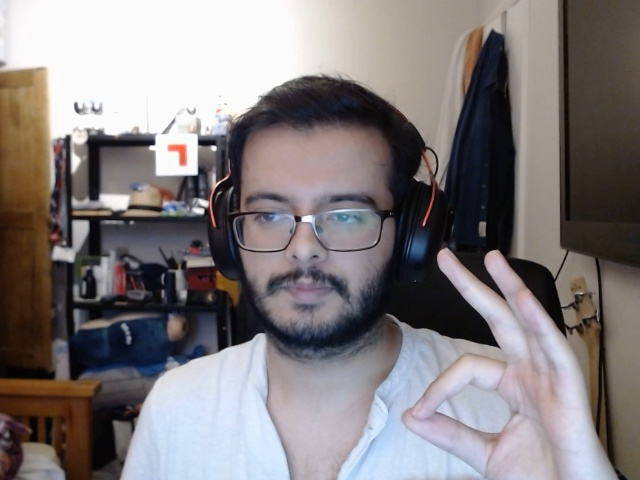Okay: (400, 244, 617, 480)
